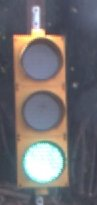Green: (11, 29, 76, 192)
